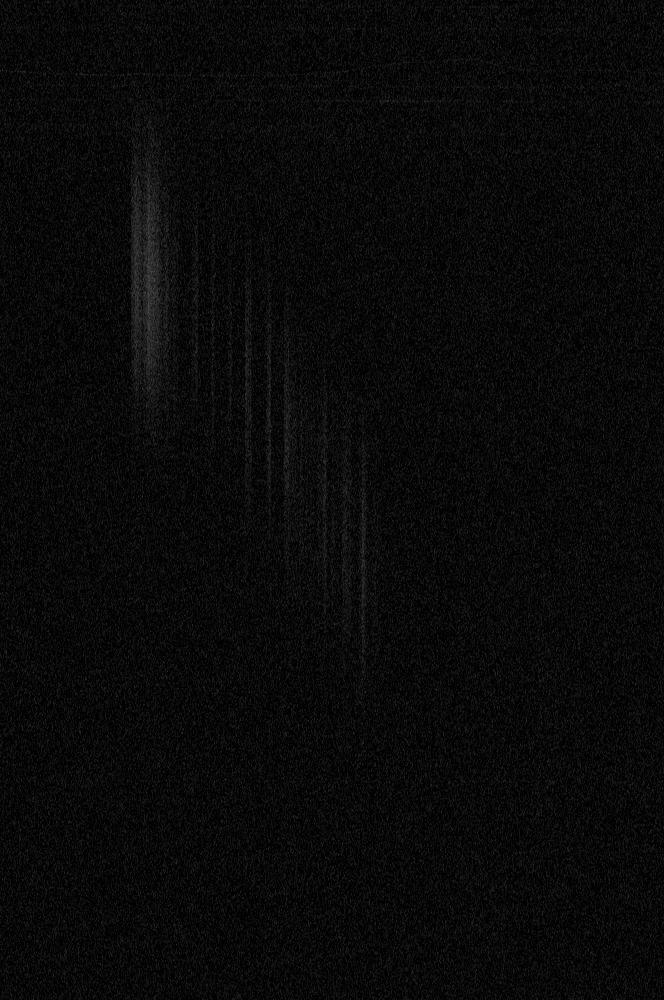signal: (0, 0, 663, 999)
